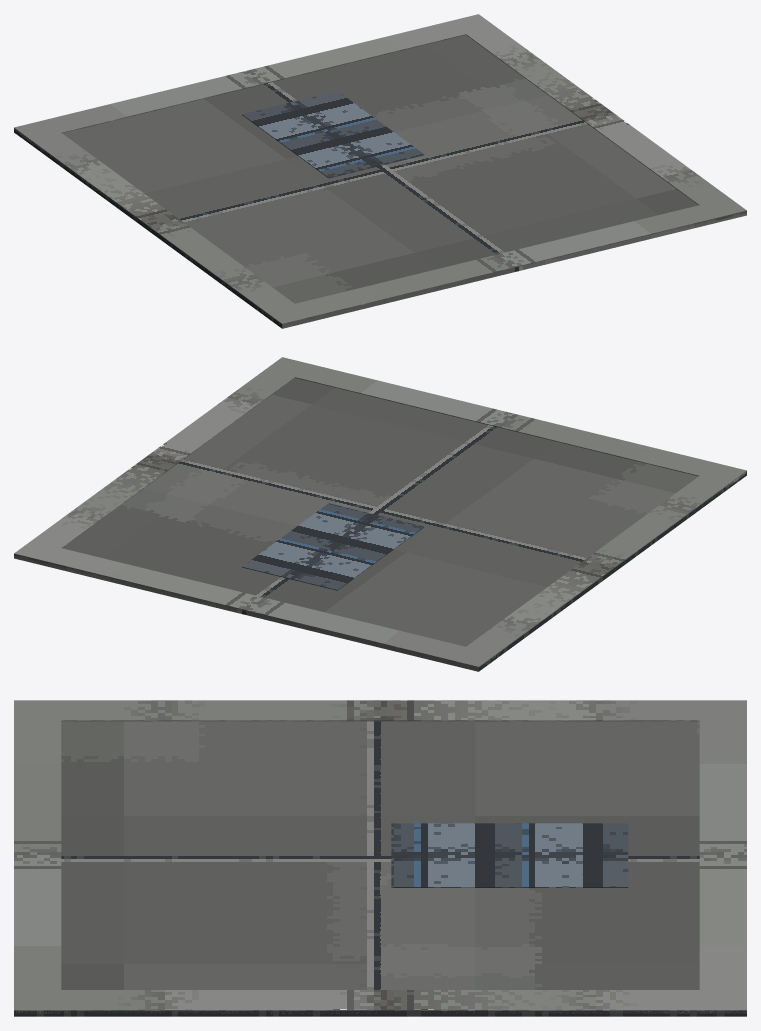
Rendered from pp_recovery_mark.glb.
The picture shows the model from 3 angles, top to bottom: view 1: azimuth 30°, elevation 25°; view 2: azimuth 150°, elevation 25°; view 3: azimuth 270°, elevation 25°; orthographic projection. The views are drawn at different scales.
Visible parts, largest first — view 1: recovery_pad, recovery_edge_y-1, recovery_edge_x-1, recovery_arrow, recovery_edge_y1, recovery_edge_x1; view 2: recovery_pad, recovery_edge_y1, recovery_edge_y-1, recovery_arrow, recovery_edge_x-1, recovery_edge_x1; view 3: recovery_pad, recovery_edge_x-1, recovery_arrow, recovery_edge_x1, recovery_edge_y-1, recovery_edge_y1.
Boxes of the visible parts, <box> form: recovery_pad: <box>14,35,746,328</box>; recovery_edge_y-1: <box>265,198,746,323</box>; recovery_edge_x-1: <box>14,120,312,326</box>; recovery_arrow: <box>242,91,424,178</box>; recovery_edge_y1: <box>14,14,495,142</box>; recovery_edge_x1: <box>449,14,746,220</box>; recovery_pad: <box>14,378,746,671</box>; recovery_edge_y1: <box>14,541,495,667</box>; recovery_edge_y-1: <box>265,357,746,485</box>; recovery_arrow: <box>242,503,423,590</box>; recovery_edge_x-1: <box>449,463,746,669</box>; recovery_edge_x1: <box>14,357,311,563</box>; recovery_pad: <box>14,721,746,1016</box>; recovery_edge_x-1: <box>14,700,746,721</box>; recovery_arrow: <box>391,823,628,887</box>; recovery_edge_x1: <box>14,990,746,1013</box>; recovery_edge_y-1: <box>14,700,61,1013</box>; recovery_edge_y1: <box>699,700,746,1013</box>.
Bounding box in the file's own units: 3.4 × 0.035 × 3.4.
3 materials, 3 textured.
